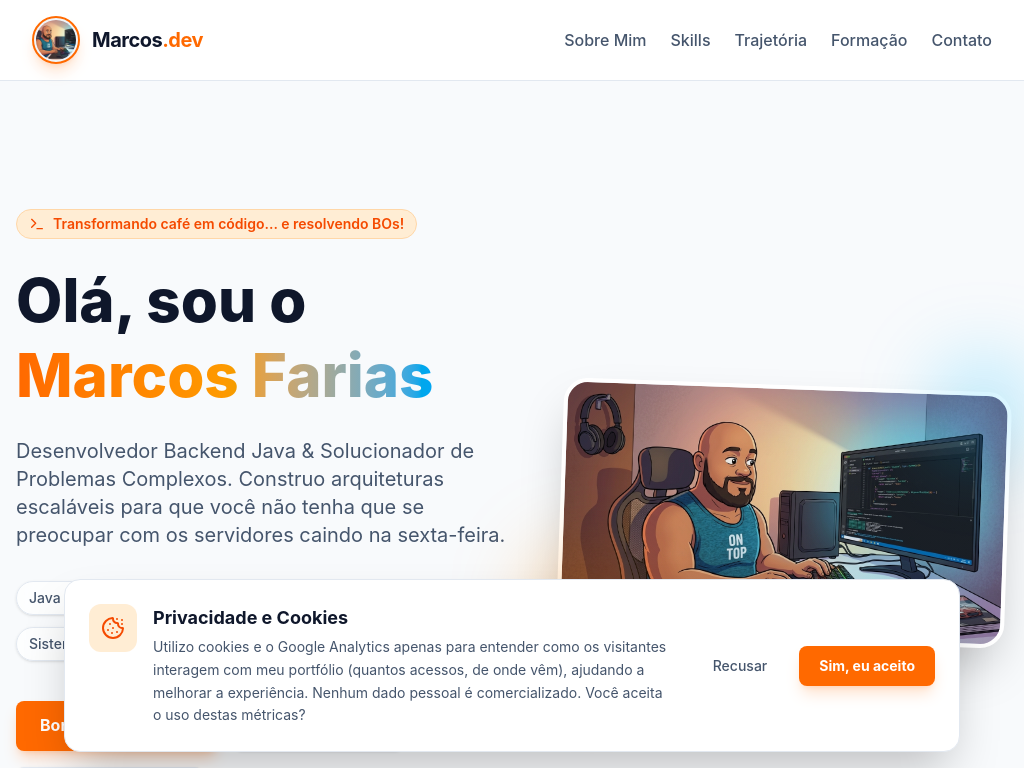
Test case: CookieBanner › should hide banner and set localStorage when "Sim, eu aceito" is clicked
The width and height of the screenshot is (1024, 768).
Click the button "Sim, eu aceito" at (867, 666), box x1=799 y1=646 x2=935 y2=686
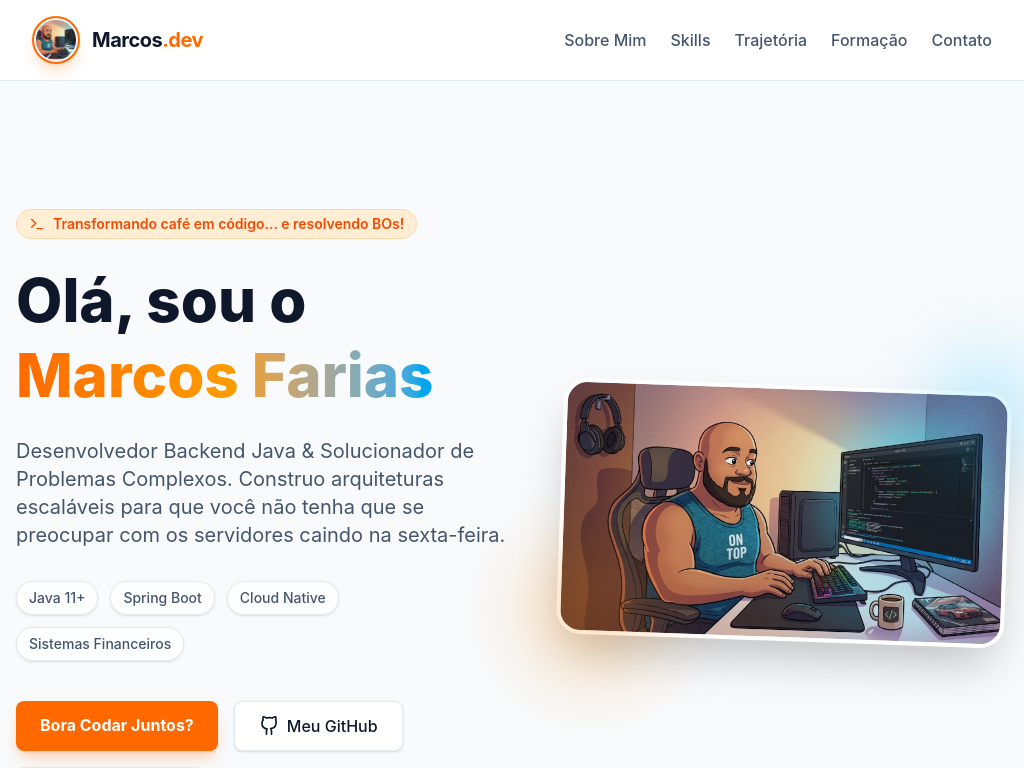
Result: the heading "Privacidade e Cookies" is gone
